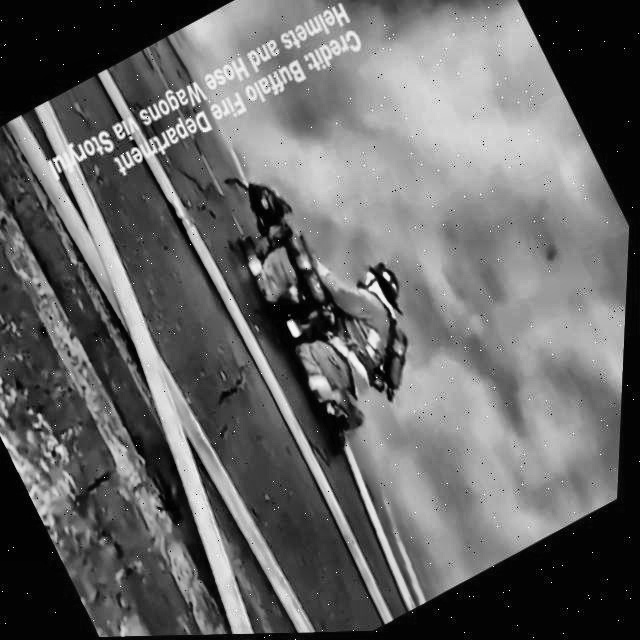Smoke: (194, 0, 640, 605)
